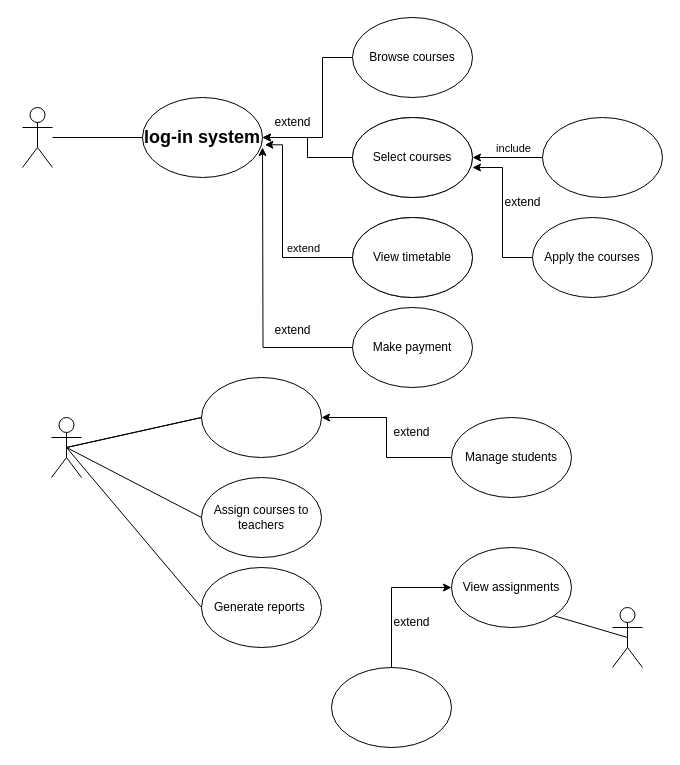
Image size: 680x765. Some labels were removed from this diagram. Here are the shapes that lost their labels. From the top down, the centre of each, then its label:
At (x=37, y=137): "Student".
At (x=602, y=157): "check validation".
At (x=261, y=417): "Students apply courses".
At (x=66, y=447): "Admin".
At (x=627, y=637): "Teacher".
At (x=391, y=707): "Submit grade".
